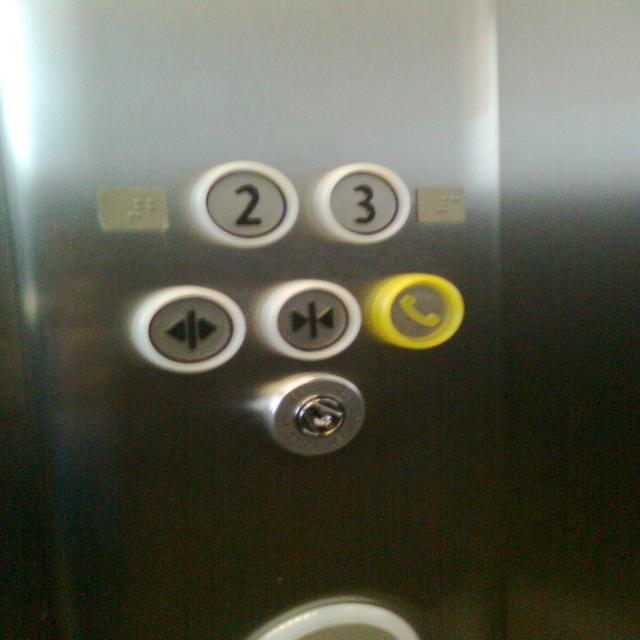2: (187, 158, 302, 252)
3: (307, 157, 418, 247)
call: (367, 269, 468, 353)
close: (256, 277, 363, 364)
keyhole: (258, 369, 365, 457)
open: (131, 282, 246, 376)
